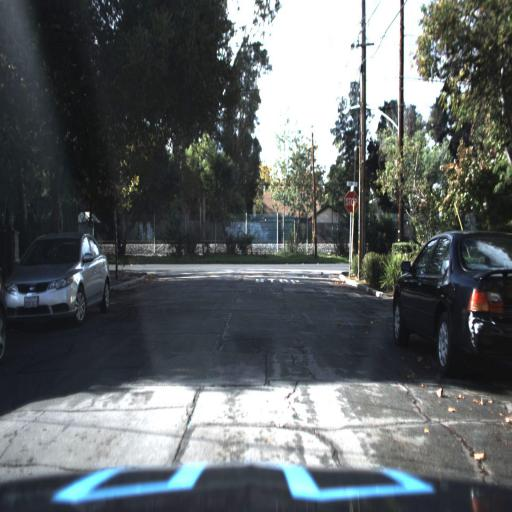car: (392, 228, 510, 373), (0, 213, 124, 346), (2, 225, 112, 325)
